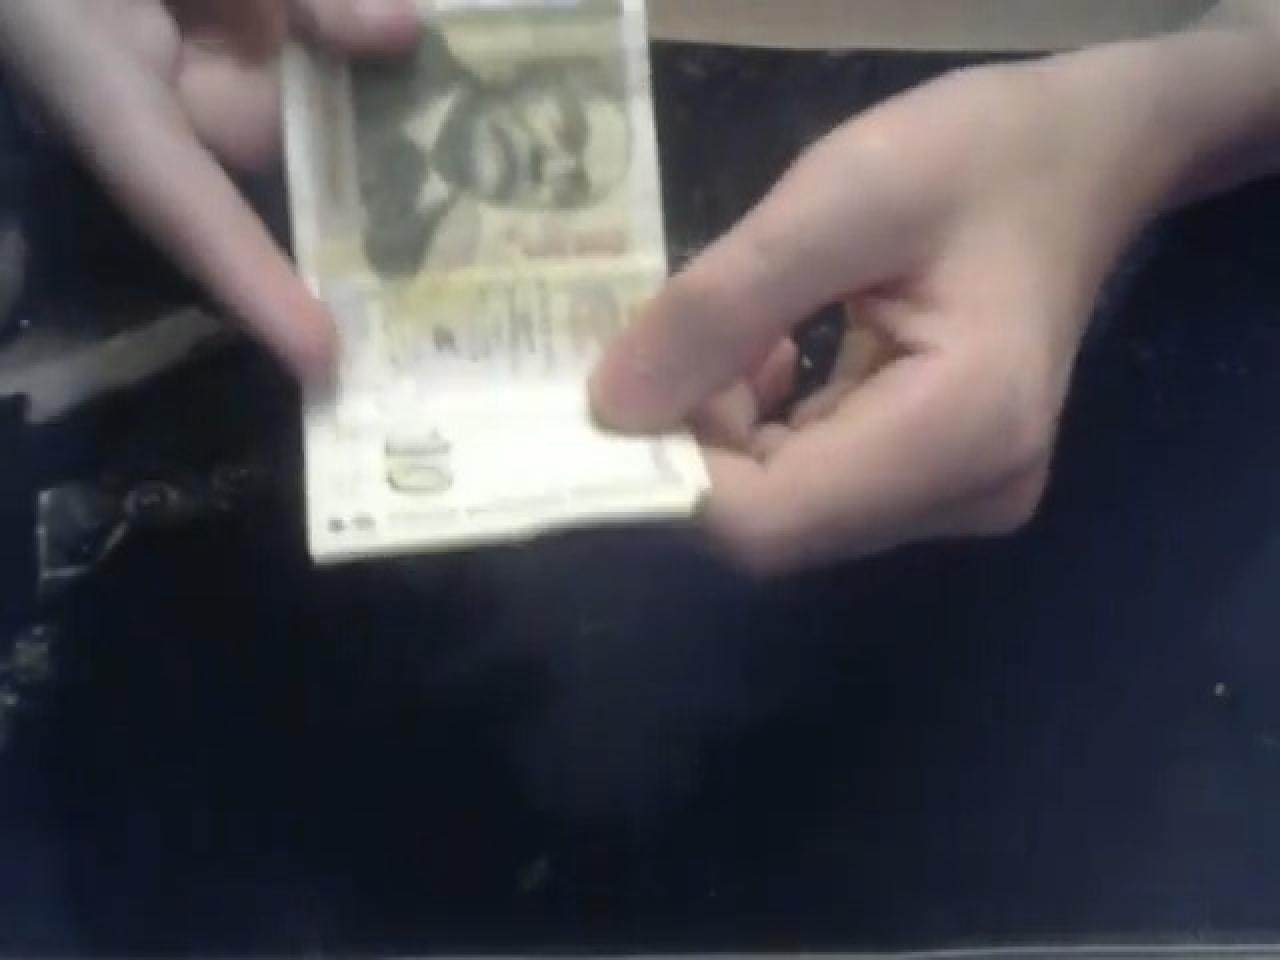10leva: (288, 0, 714, 566)
